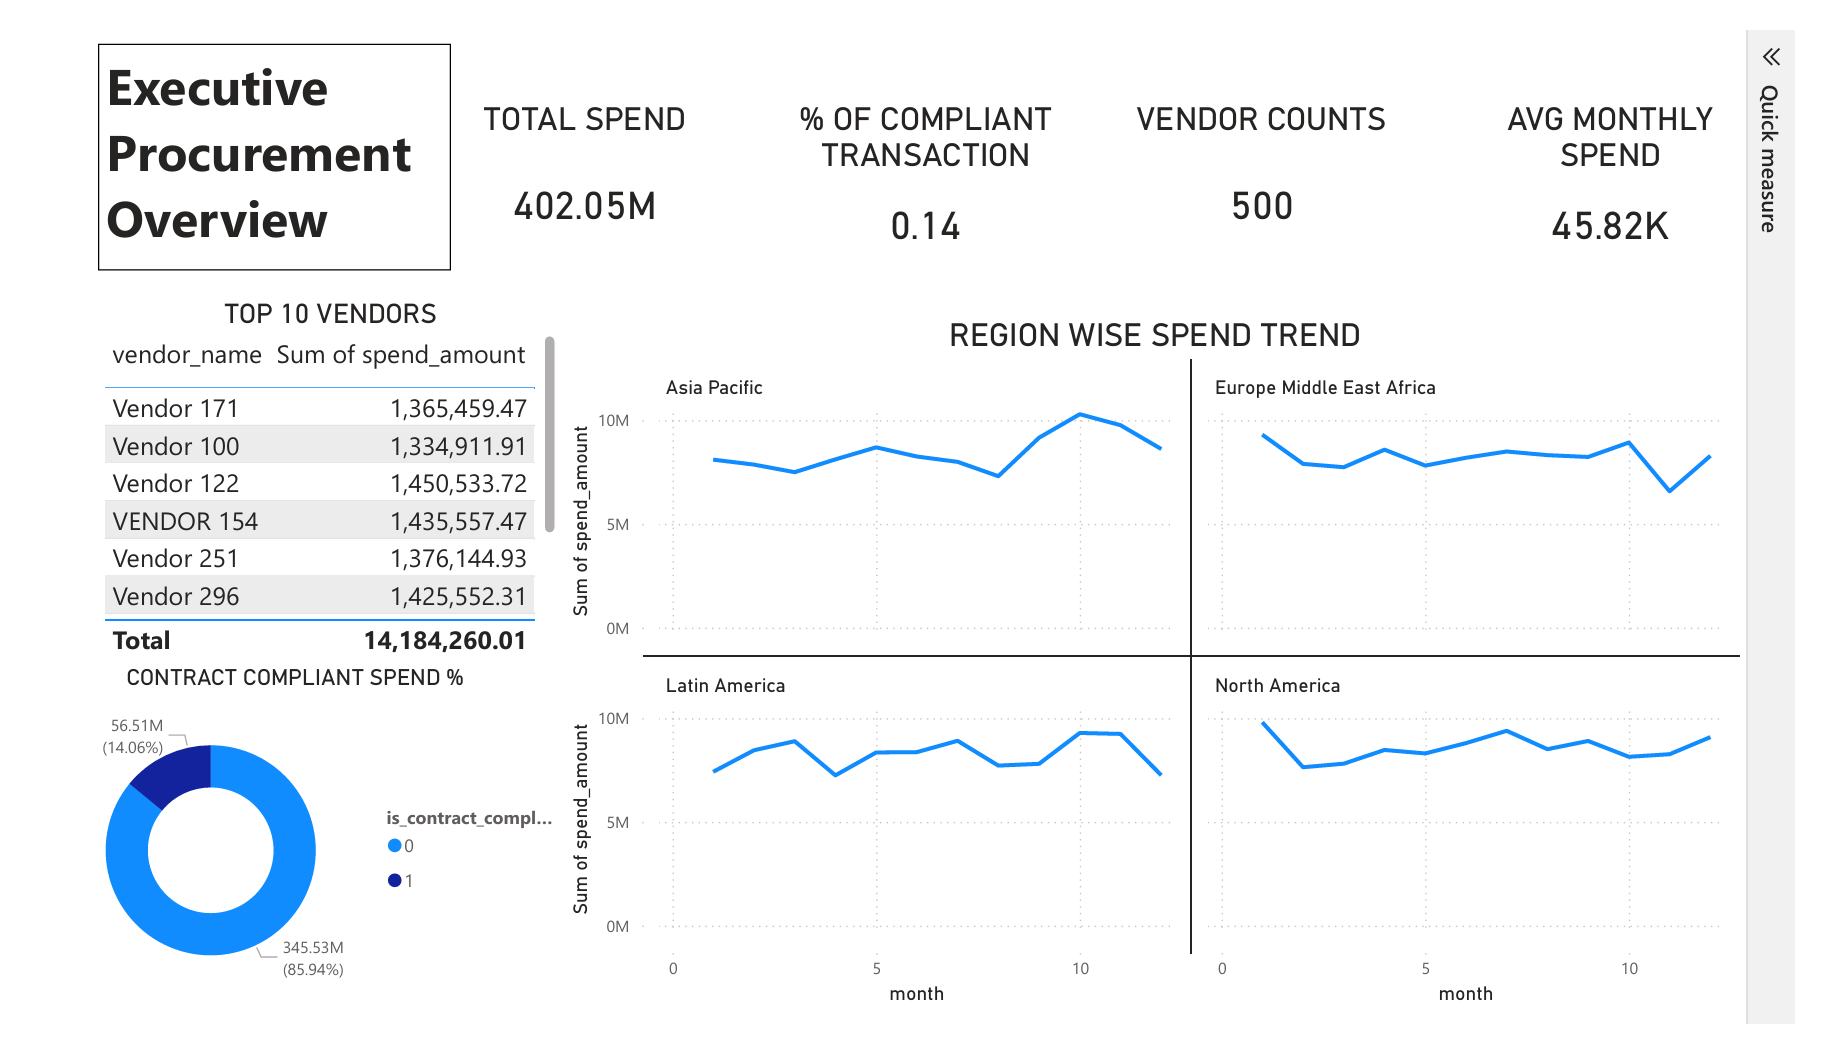

What the dashboard file says about the page in this screenshot:
{"tool":"powerbi","page":{"name":"Executive_Procurement_Dashboard","canvas":[1280,720],"ordinal":0},"visuals":[{"type":"card","title":"TOTAL SPEND","fields":{"Values":["Sum(analytics vw_procurement_spend (3).spend_amount)"]},"box":[313.5,41.7,201.3,126.9],"z":0},{"type":"card","title":"% OF COMPLIANT TRANSACTION","fields":{"Values":["Avg(analytics vw_procurement_spend (3).is_contract_compliant)"]},"box":[567.8,41.7,201.3,126.9],"z":1000},{"type":"card","title":"VENDOR COUNTS","fields":{"Values":["Count(analytics vw_procurement_spend (3).vendor_name)"]},"box":[817.6,41.7,201.3,126.9],"z":2000},{"type":"card","title":"AVG MONTHLY SPEND","fields":{"Values":["analytics vw_procurement_spend (3).Sum of spend_amount divided by Count of month"]},"box":[1078.1,41.7,201.3,126.9],"z":3000},{"type":"lineChart","title":"REGION WISE SPEND TREND","fields":{"Category":["analytics vw_procurement_spend (3).month"],"Y":["Sum(analytics vw_procurement_spend (3).spend_amount)"],"Rows":["analytics vw_procurement_spend (3).region_name"]},"box":[397.5,203,883,517.6],"z":4000},{"type":"tableEx","title":"TOP 10 VENDORS","fields":{"Values":["analytics vw_procurement_spend (3).vendor_name","Sum(analytics vw_procurement_spend (3).spend_amount)"]},"box":[52.4,189.5,345.1,272.4],"z":5000},{"type":"donutChart","title":"CONTRACT COMPLIANT SPEND %","fields":{"Y":["Sum(analytics vw_procurement_spend (3).spend_amount)"],"Category":["analytics vw_procurement_spend (3).is_contract_compliant"]},"box":[0,461.8,397.5,258.8],"z":6000},{"type":"textbox","box":[52.4,0,262.2,169.2],"z":7000}]}

Visuals, with their boxes on the page's 1280x720 design canvas (x1, y1, x2, y2). These are canvas units, not pixel positions in the 1821x1054 screenshot, which may show the page scaled, cropped or inside an application window:
"TOTAL SPEND" card: {"x1": 314, "y1": 42, "x2": 515, "y2": 169}
"% OF COMPLIANT TRANSACTION" card: {"x1": 568, "y1": 42, "x2": 769, "y2": 169}
"VENDOR COUNTS" card: {"x1": 818, "y1": 42, "x2": 1019, "y2": 169}
"AVG MONTHLY SPEND" card: {"x1": 1078, "y1": 42, "x2": 1279, "y2": 169}
"REGION WISE SPEND TREND" lineChart: {"x1": 398, "y1": 203, "x2": 1280, "y2": 721}
"TOP 10 VENDORS" tableEx: {"x1": 52, "y1": 190, "x2": 398, "y2": 462}
"CONTRACT COMPLIANT SPEND %" donutChart: {"x1": 0, "y1": 462, "x2": 398, "y2": 721}
textbox: {"x1": 52, "y1": 0, "x2": 315, "y2": 169}
